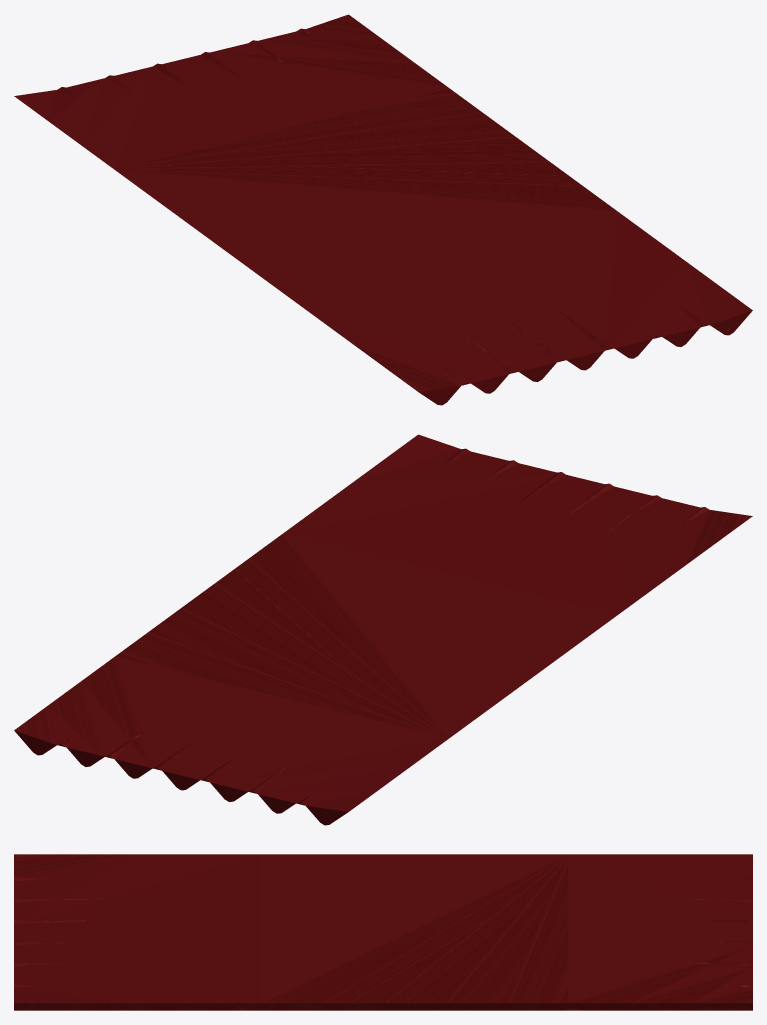
File: rideau-droite.obj
3 renders of one model, top to bottom at view 1: azimuth 30°, elevation 25°; view 2: azimuth 150°, elevation 25°; view 3: azimuth 270°, elevation 25°, orthographic. The views are drawn at different scales.
Parts seen in each view (by area): view 1: Object.1; view 2: Object.1; view 3: Object.1.
Part boxes in pixels (x1,y1,x2,y2): Object.1: (14, 14, 752, 405); Object.1: (14, 434, 752, 825); Object.1: (14, 854, 752, 1010).
Bounding box in the file's own units: 4208 × 231 × 8804.
1 material, 1 textured.
